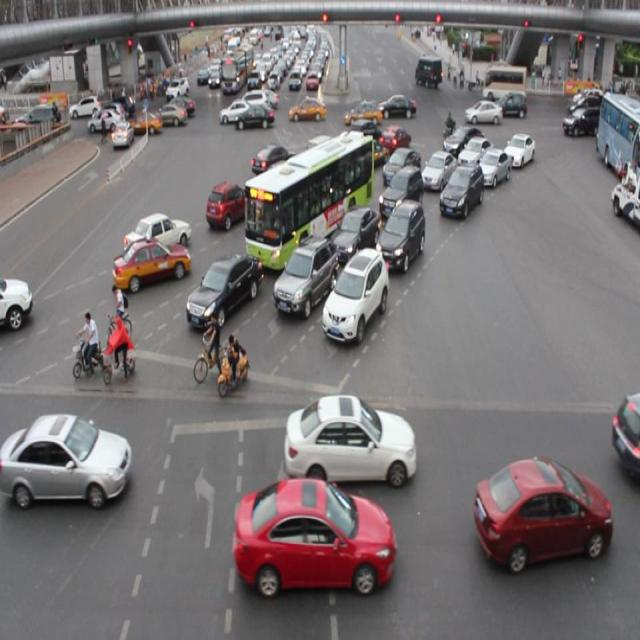car: (235, 479, 395, 590), (474, 451, 610, 562), (1, 410, 132, 506), (284, 396, 414, 486), (322, 246, 388, 342), (188, 256, 263, 326), (274, 238, 335, 314), (114, 238, 192, 288), (377, 198, 424, 270), (327, 205, 381, 264), (124, 212, 191, 256), (437, 162, 484, 218), (377, 166, 422, 218), (206, 182, 251, 232), (265, 159, 310, 200), (249, 193, 292, 230), (381, 147, 420, 187), (1, 277, 33, 325), (420, 151, 457, 192), (250, 143, 292, 177), (325, 153, 363, 188), (476, 148, 510, 187), (353, 136, 388, 172), (457, 135, 491, 172), (348, 116, 381, 153), (502, 133, 534, 169), (443, 126, 482, 154), (379, 126, 410, 157)
truck: (610, 390, 640, 486), (302, 132, 342, 176)
van: (246, 135, 374, 269)
